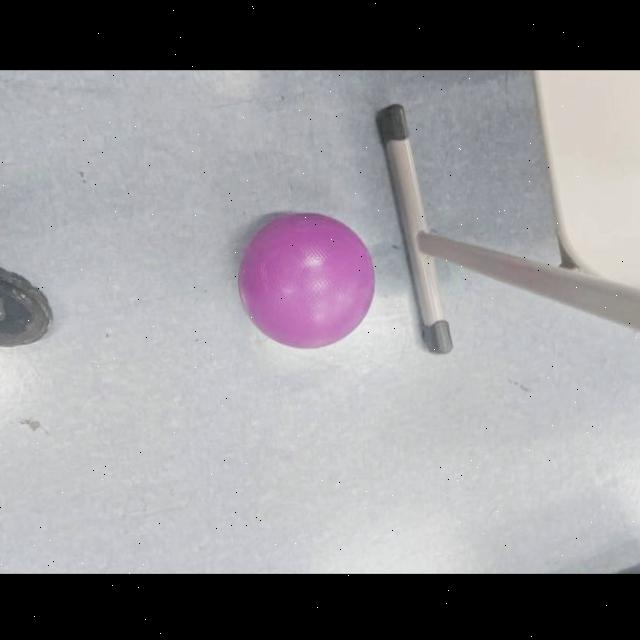P: (234, 206, 378, 352)
